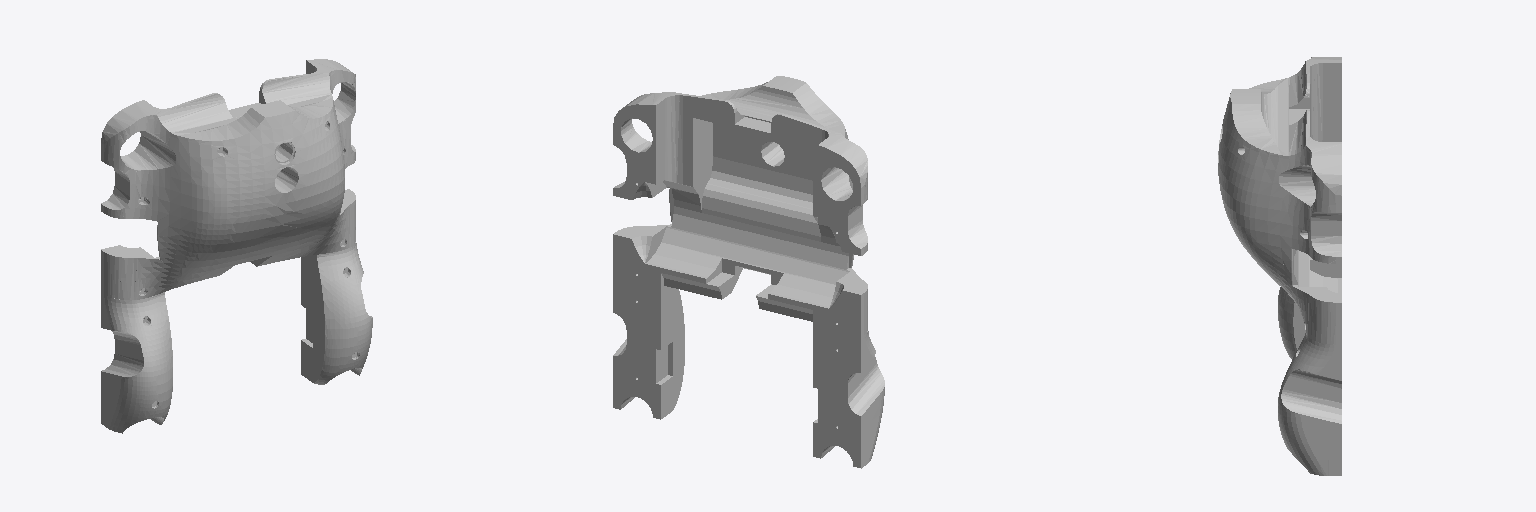
The model's file is HAUV2.obj.
The picture shows the model from 3 angles: view 1: azimuth 30°, elevation 25°; view 2: azimuth 150°, elevation 25°; view 3: azimuth 270°, elevation 25°; orthographic projection.
Bounding box in the file's own units: 0.6858 × 0.8416 × 0.2959.